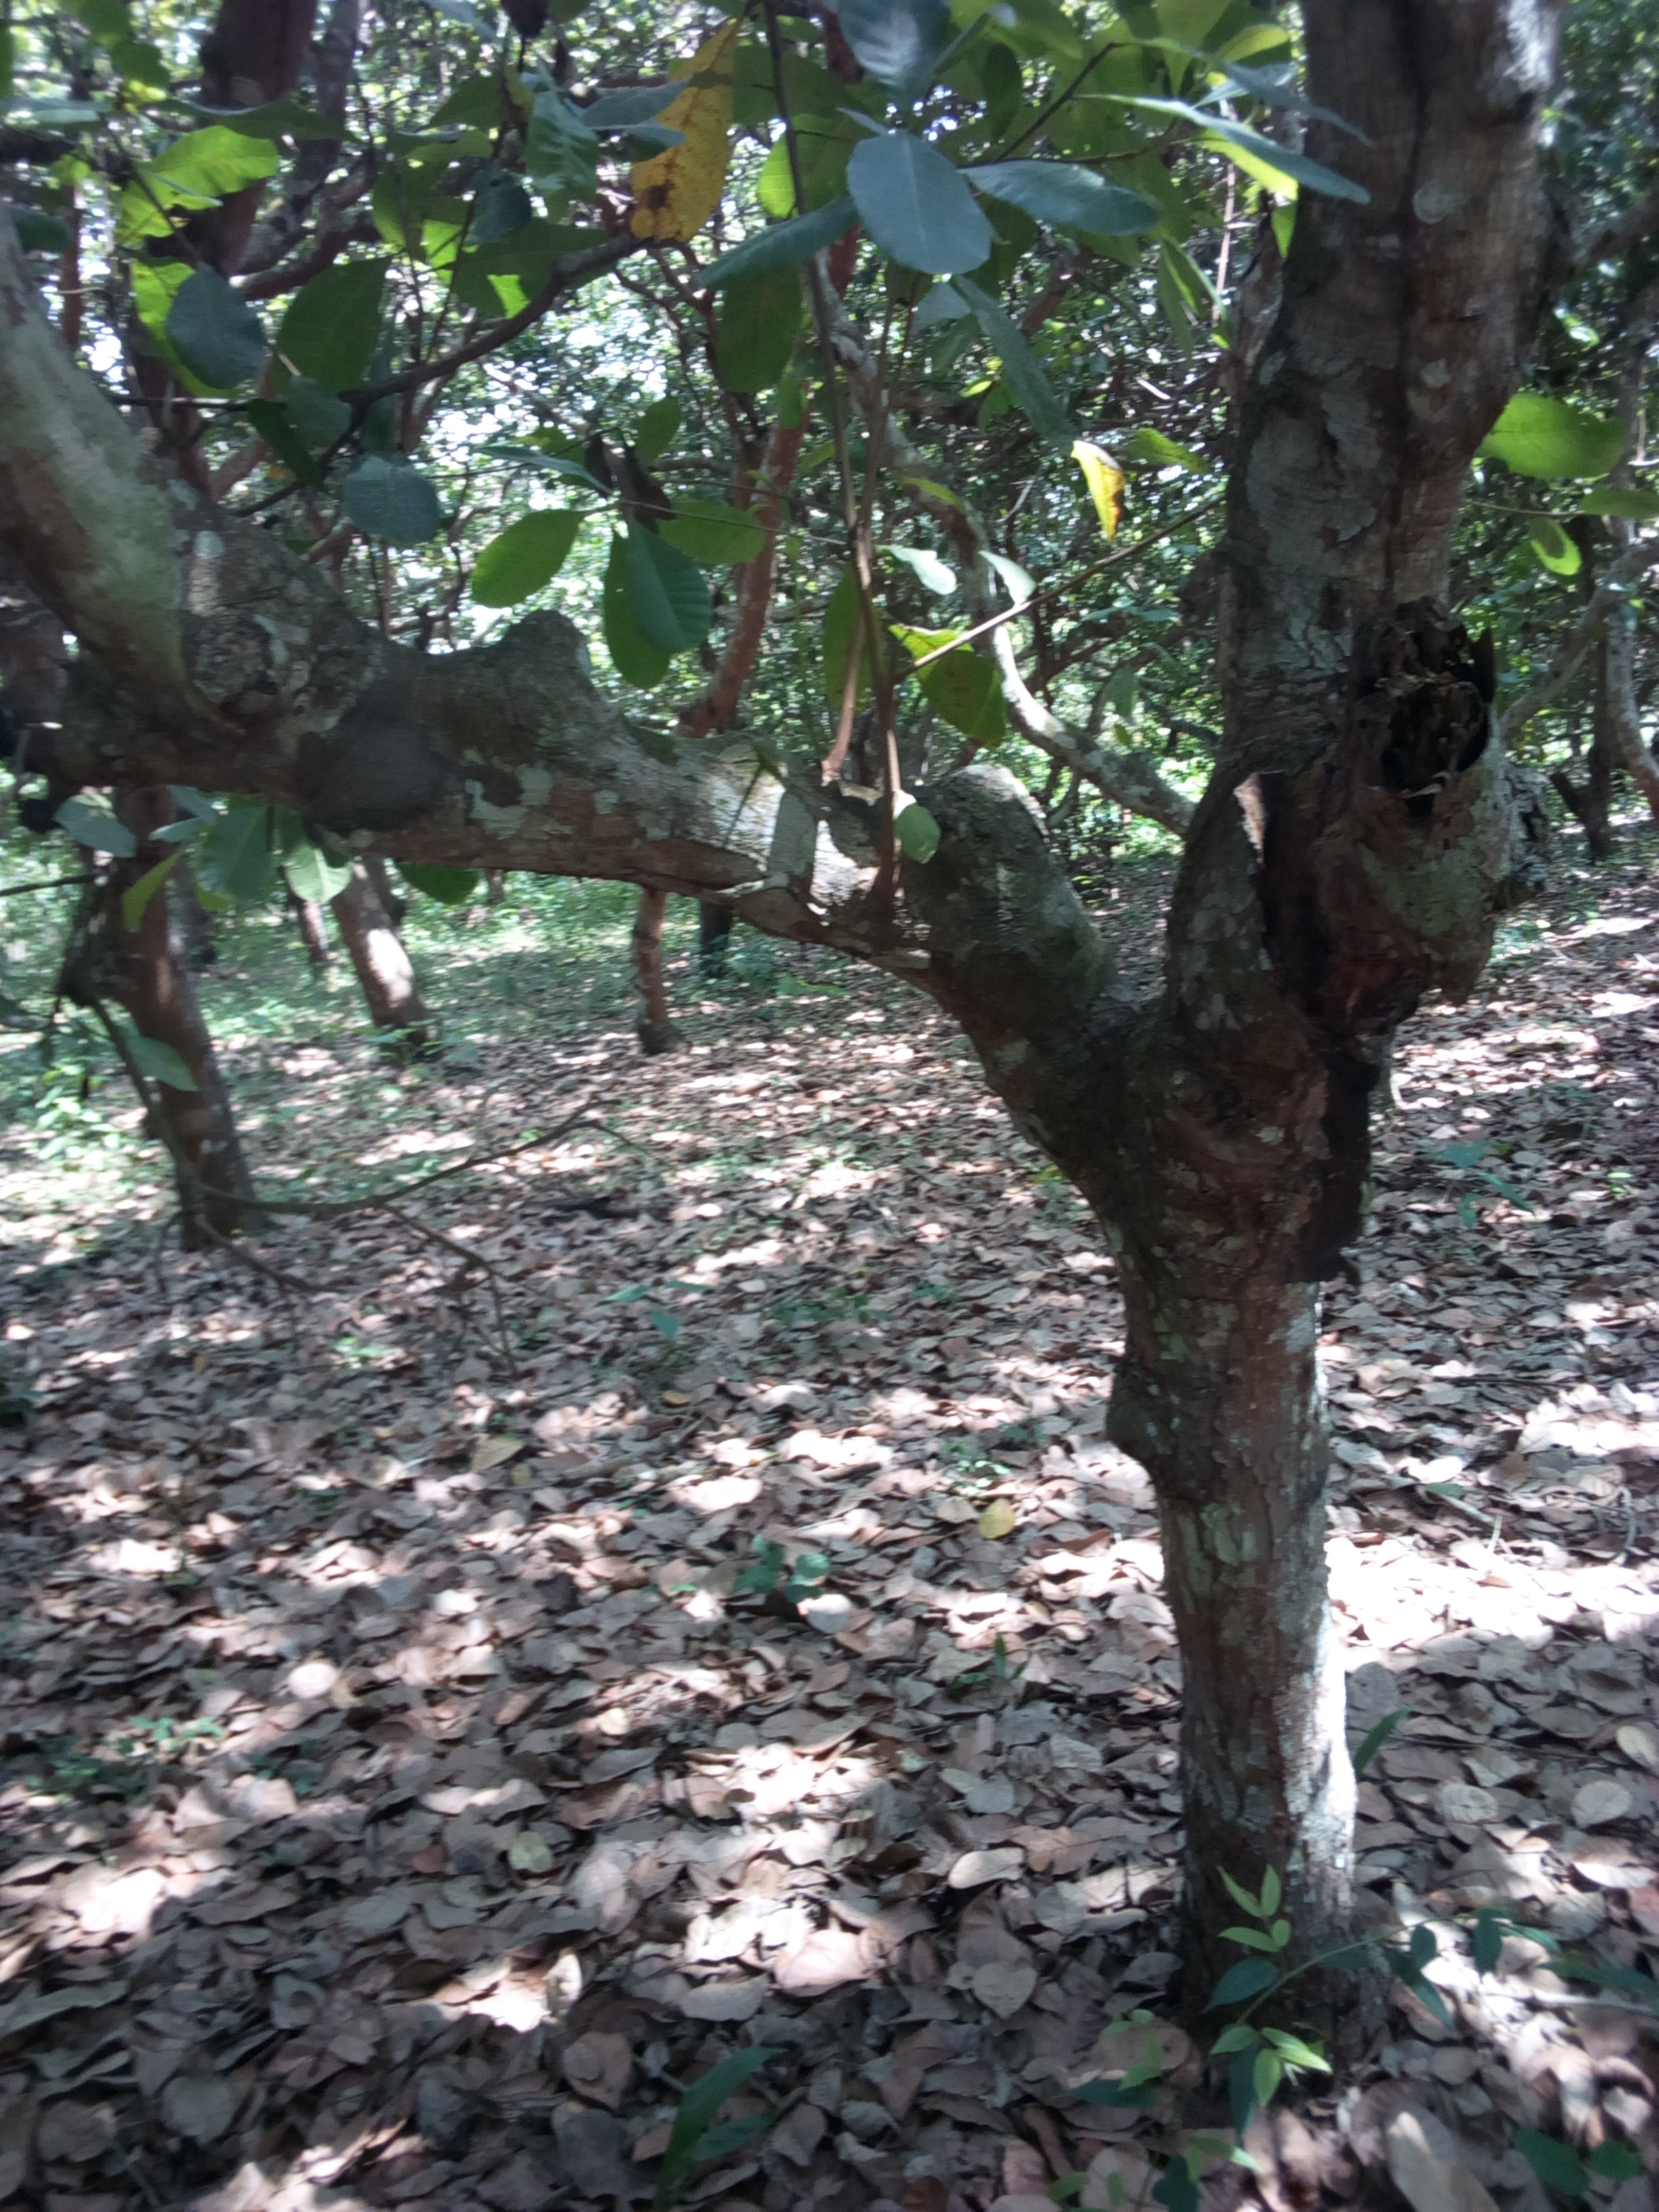Termites: (1286, 923, 1382, 1292)
